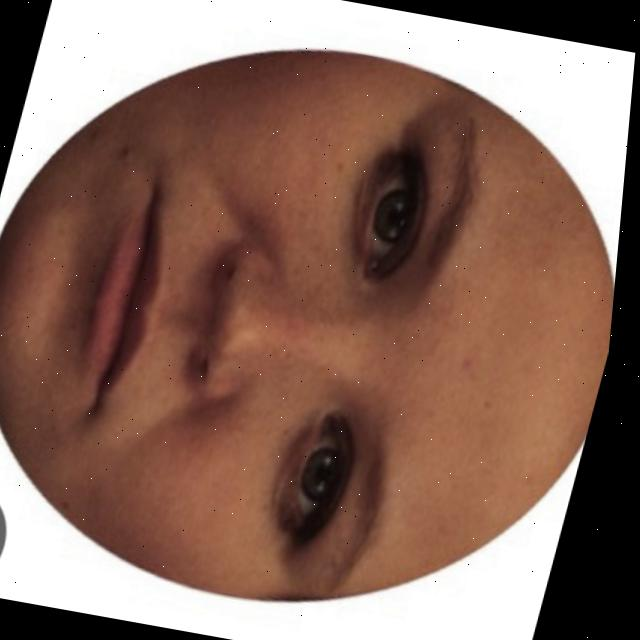natural: (2, 22, 578, 618)
